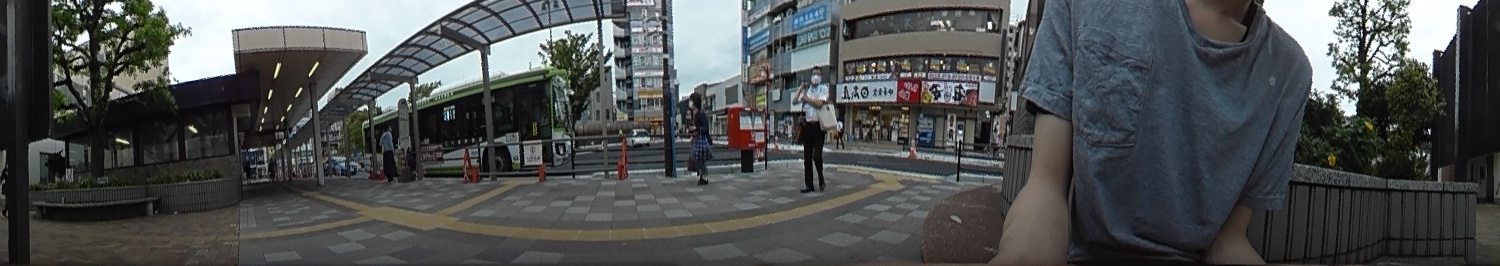difficult_person: (835, 118, 845, 147)
person: (795, 64, 830, 191), (682, 90, 711, 186), (378, 123, 397, 182)
